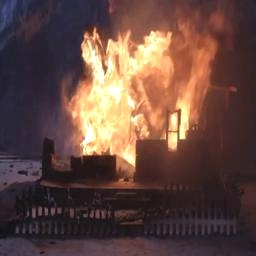fire: (51, 2, 216, 171)
